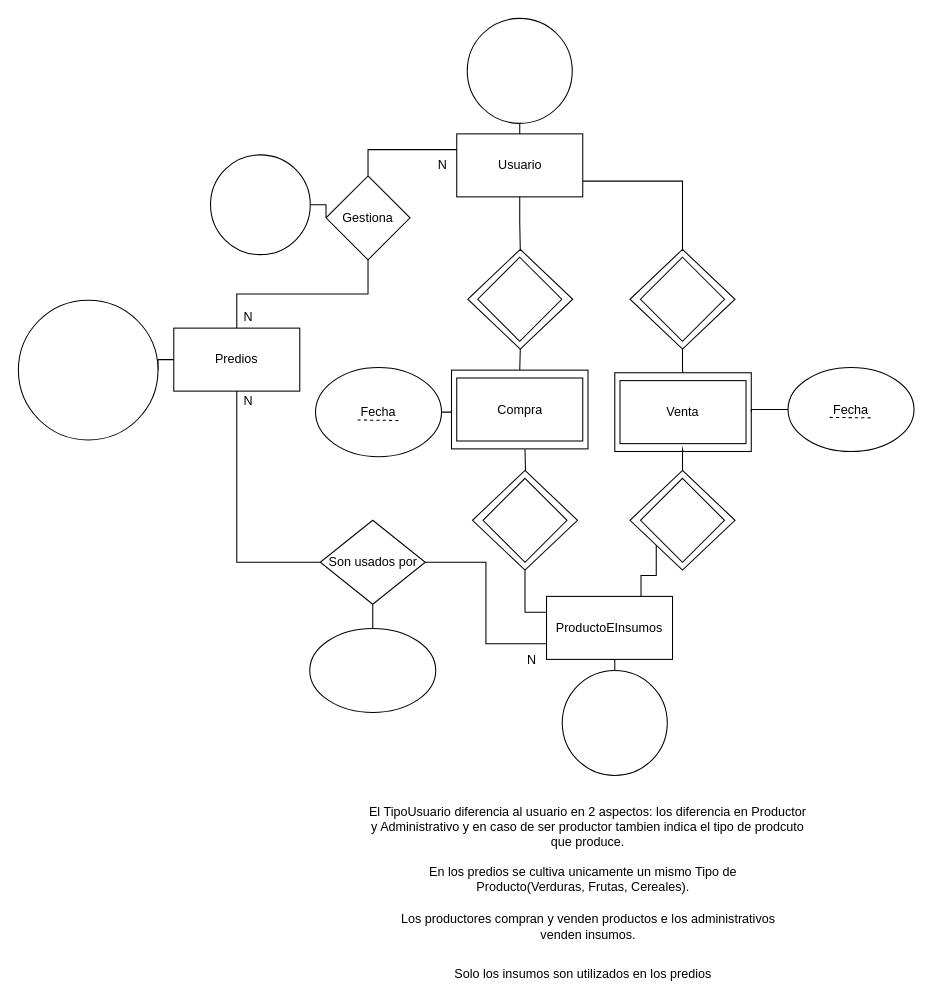
The diagram is 932 pixels wide and 1003 high, and some of its shapes have lost their labels. Each missing label, with the centre of its shape:
"CantidadUsada" goes at (x=372, y=669).
"Cedula Contraseña Nombre BajaLogica TipoUsuario" goes at (x=519, y=70).
"CultivosAño" goes at (x=259, y=204).
"IDPOI Nombre Cantidad Precio Tipo Subtipo" goes at (x=614, y=722).
"IDPredio TamañoPre Sector [ IDSector, TamañoSec, Activo ]" goes at (x=87, y=369).
